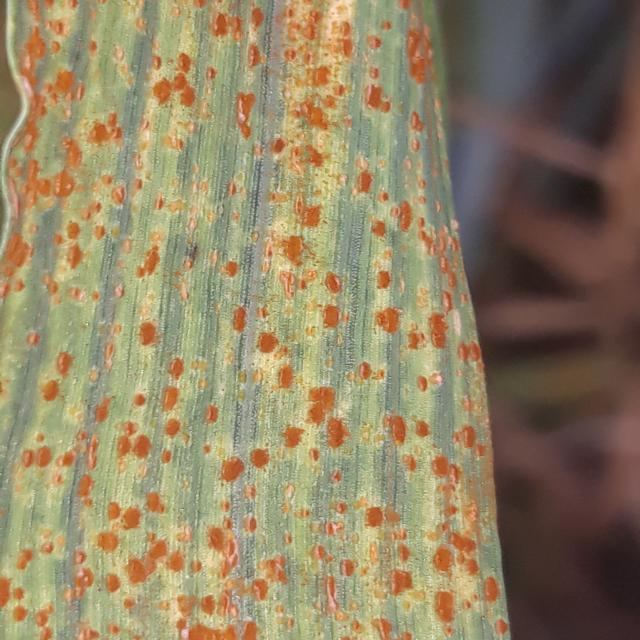orang_rust: (0, 0, 517, 640)
